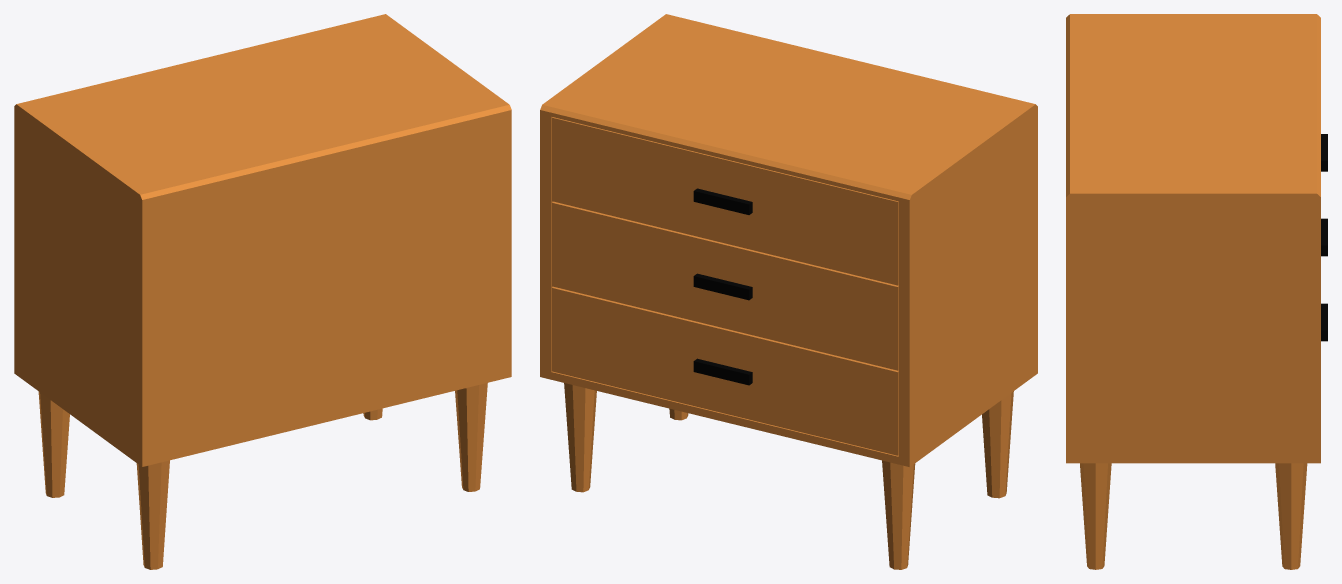
Rendered from 70s.Dresser.fbx.
3 renders of one model, left to right at view 1: azimuth 30°, elevation 25°; view 2: azimuth 150°, elevation 25°; view 3: azimuth 270°, elevation 25°, orthographic.
Visible parts, largest first — view 1: 70s.Dresser; view 2: 70s.Dresser, 70s.Dresser.MidDrawer, 70s.Dresser.BottomDrawer, 70s.Dresser.TopDrawer; view 3: 70s.Dresser.
Part boxes in pixels (x1,y1,x2,y2): 70s.Dresser: (14, 14, 511, 569); 70s.Dresser: (540, 14, 1037, 569); 70s.Dresser.MidDrawer: (552, 201, 898, 370); 70s.Dresser.BottomDrawer: (552, 286, 898, 455); 70s.Dresser.TopDrawer: (552, 117, 898, 285); 70s.Dresser: (1066, 14, 1320, 569).
Size of the model in its own units: 50 by 50 by 30.82.
